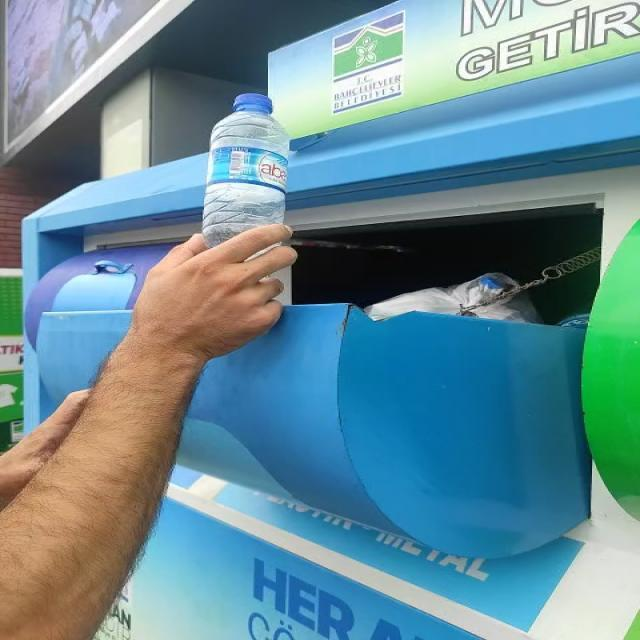Plastic: (201, 93, 289, 247), (203, 93, 289, 247)
